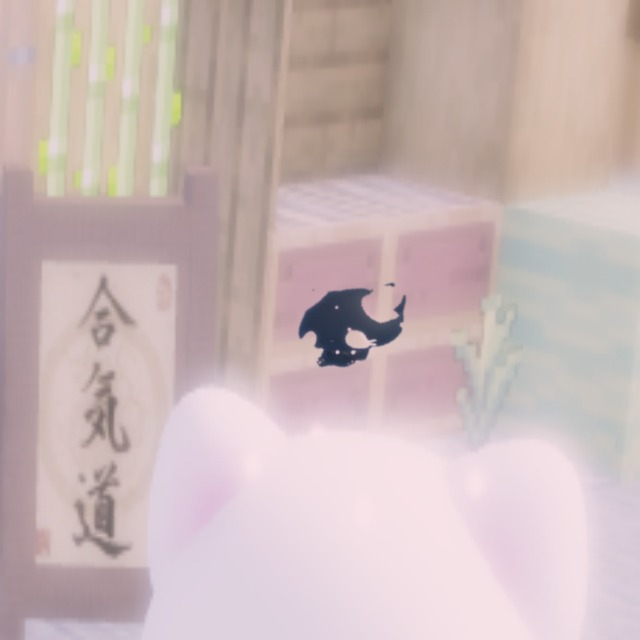urso_preto: (270, 257, 436, 390)
